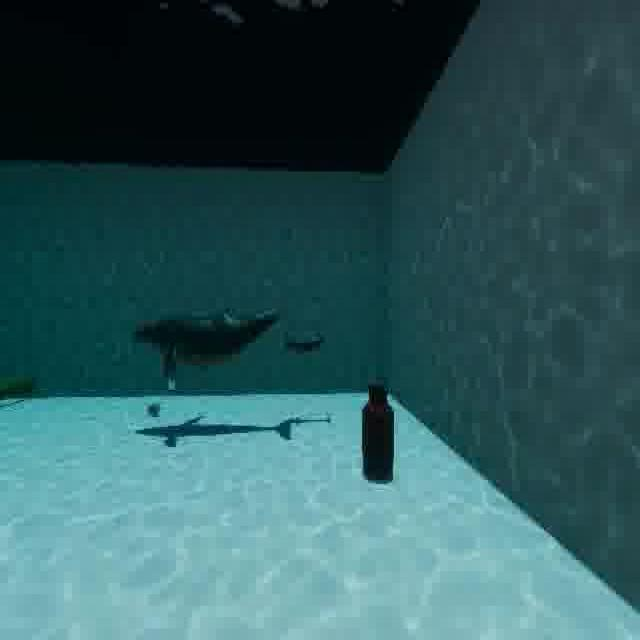Cylinder: (348, 364, 403, 492)
Pipe: (0, 368, 43, 420)
Whale: (125, 300, 284, 414), (267, 313, 334, 365)
